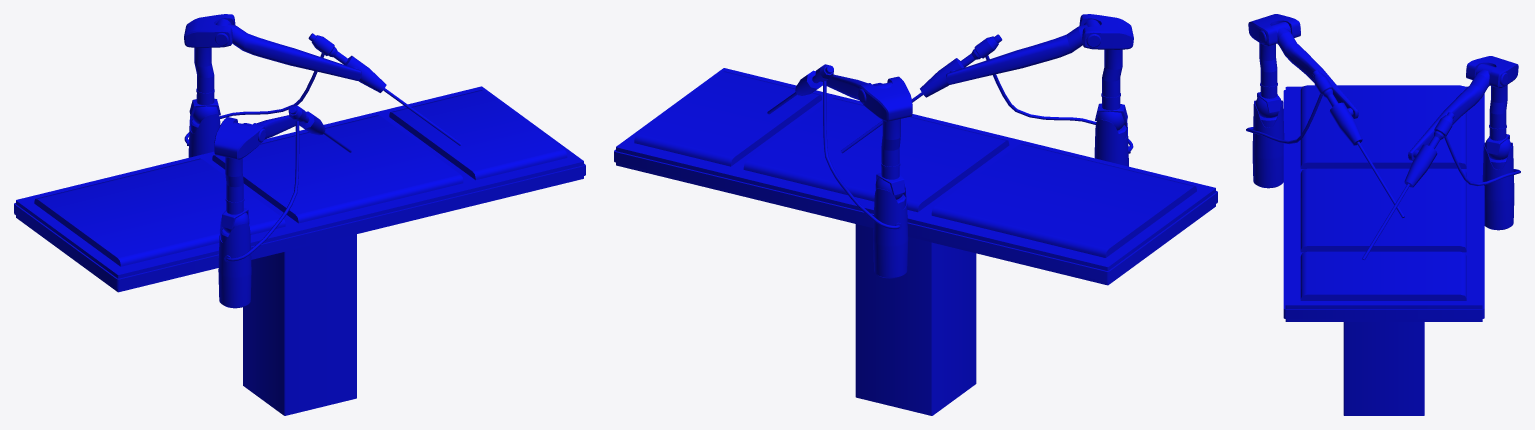
Rendered from AutoDoc.FBX.
The picture shows the model from 3 angles, left to right: view 1: azimuth 30°, elevation 25°; view 2: azimuth 150°, elevation 25°; view 3: azimuth 270°, elevation 25°; orthographic projection. The views are drawn at different scales.
Visible parts, largest first — view 1: MedTable; view 2: MedTable; view 3: MedTable.
Boxes of the visible parts, bbox=[...] form: MedTable: bbox=[14, 14, 585, 415]; MedTable: bbox=[614, 14, 1217, 415]; MedTable: bbox=[1246, 14, 1520, 415].
Size of the model in its own units: 83.67 by 57.32 by 44.2.
